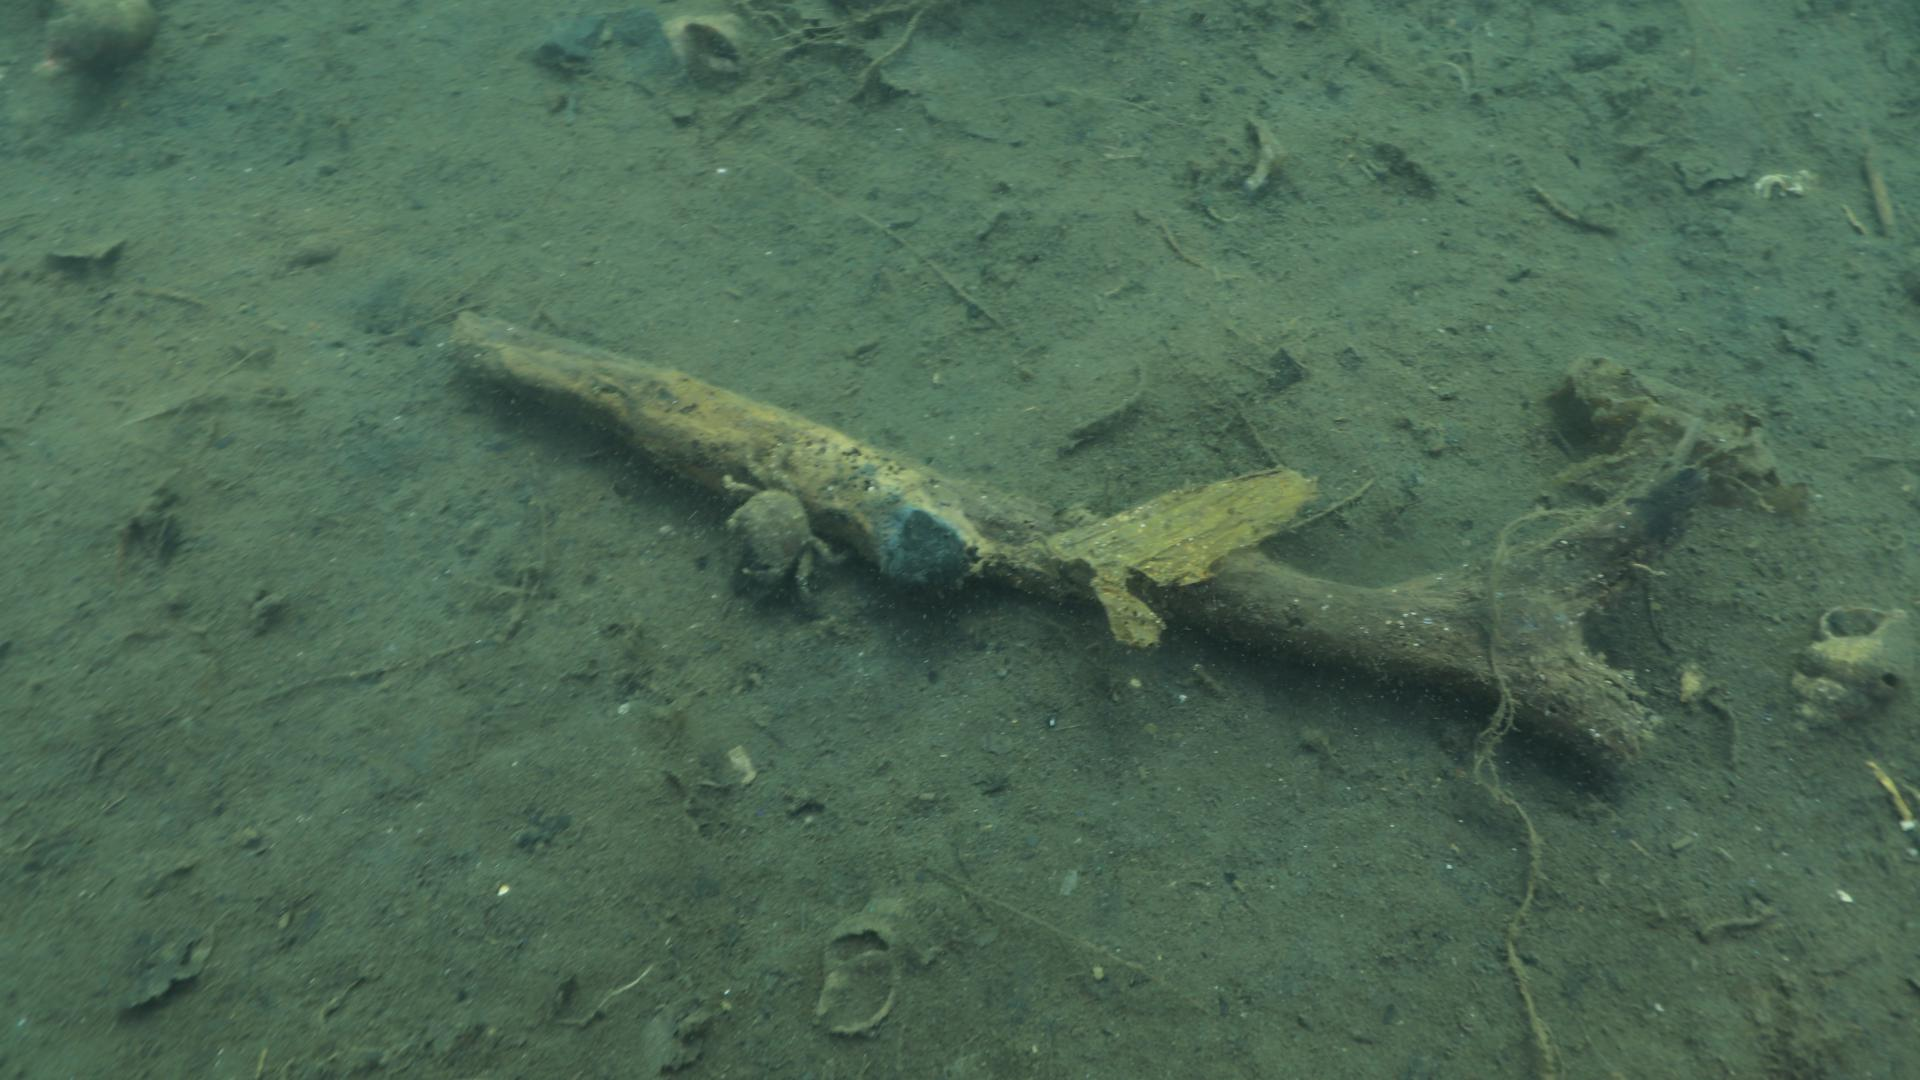wood: (444, 307, 1706, 774)
